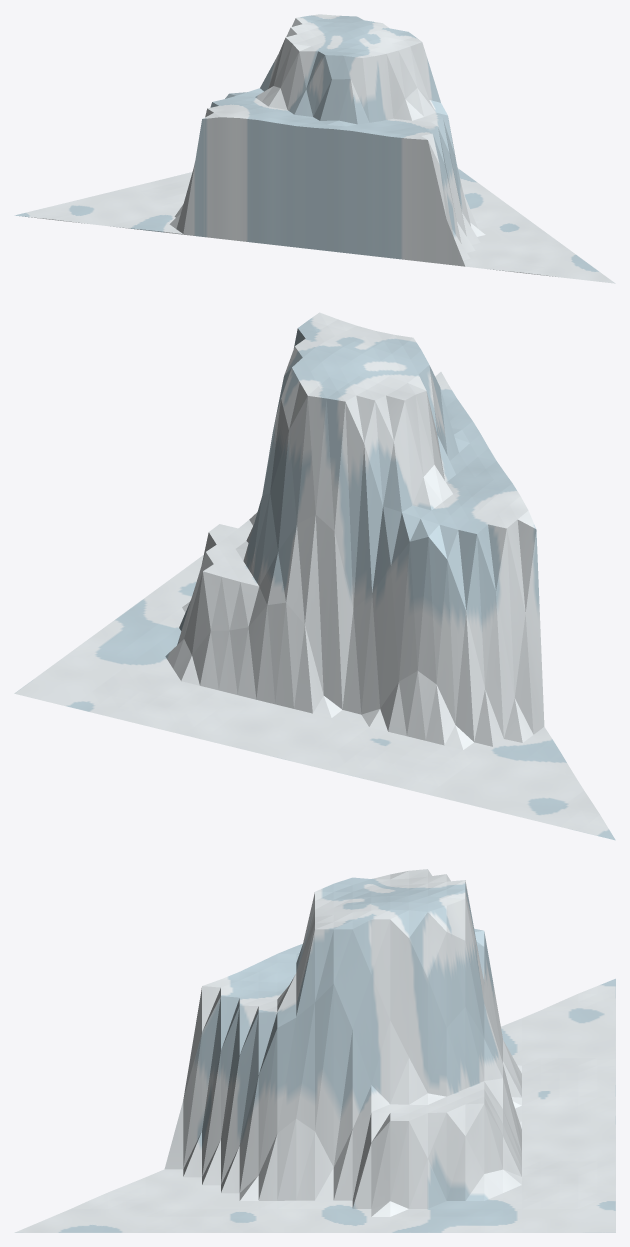
Rendered from Snow_Mountains_12_SE.obj.
3 renders of one model, top to bottom at view 1: azimuth 30°, elevation 25°; view 2: azimuth 150°, elevation 25°; view 3: azimuth 270°, elevation 25°, orthographic. The views are drawn at different scales.
Size of the model in its own units: 10 by 4.61 by 10.
1 material, 1 textured.
